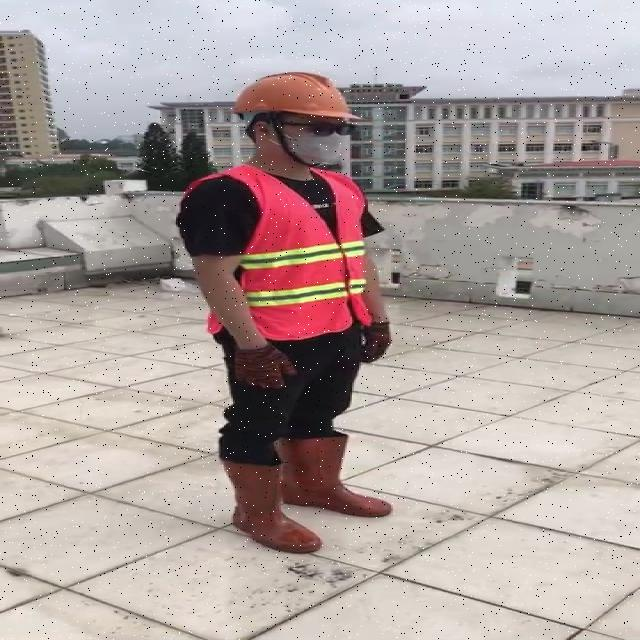Hard_hat: (224, 68, 366, 136)
Person: (176, 68, 404, 560)
Vest: (232, 162, 365, 334)
